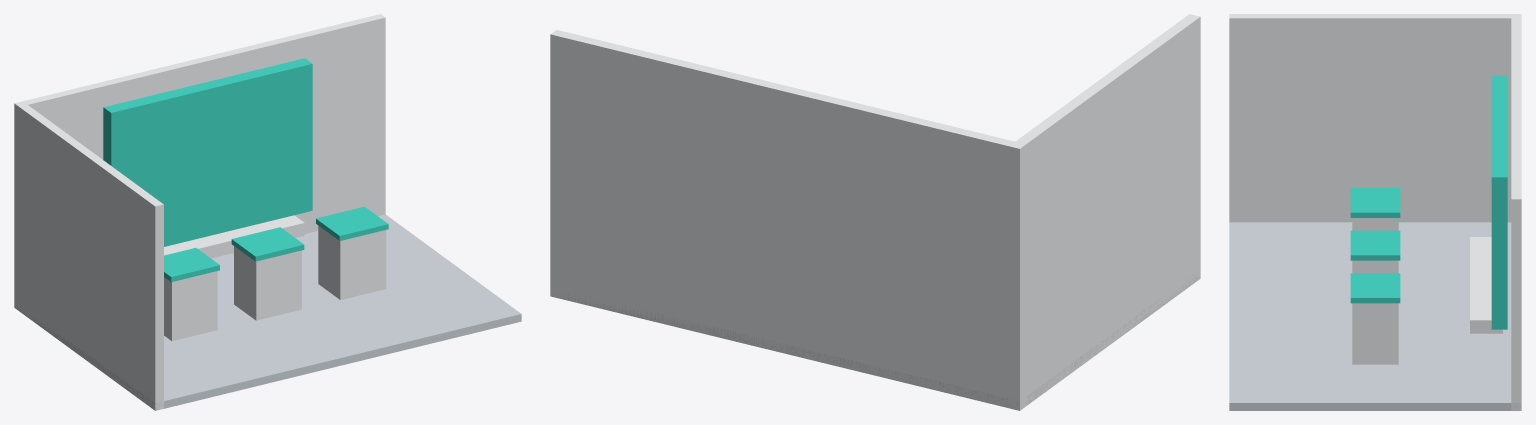
The picture shows the model from 3 angles, left to right: view 1: azimuth 30°, elevation 25°; view 2: azimuth 150°, elevation 25°; view 3: azimuth 270°, elevation 25°; orthographic projection. The views are drawn at different scales.
Parts seen in each view (by area): view 1: Exhibition Booth Concept; view 2: Exhibition Booth Concept; view 3: Exhibition Booth Concept.
Part boxes in pixels (x1,y1,x2,y2): Exhibition Booth Concept: (14, 14, 521, 410); Exhibition Booth Concept: (550, 14, 1200, 410); Exhibition Booth Concept: (1229, 14, 1521, 410).
Size of the model in its own units: 6 by 3.2 by 4.
